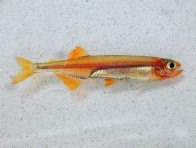fish: (12, 46, 184, 91)
